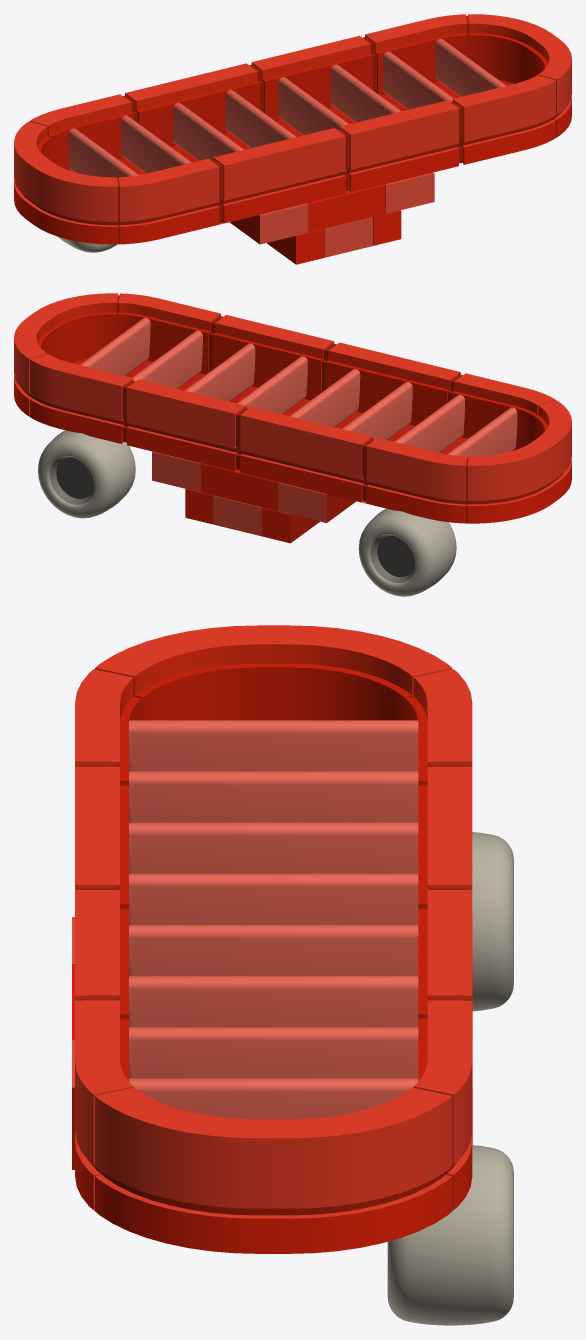
The model's file is RedSlotTray.fbx.
3 renders of one model, top to bottom at view 1: azimuth 30°, elevation 25°; view 2: azimuth 150°, elevation 25°; view 3: azimuth 270°, elevation 25°, orthographic. The views are drawn at different scales.
Visible parts, largest first — view 1: RedSlotTray, Wheels; view 2: RedSlotTray, Wheels; view 3: RedSlotTray, Wheels.
Boxes of the visible parts, box(x1,y1,x2,y2) form: RedSlotTray: box(14, 14, 571, 264); Wheels: box(58, 237, 117, 252); RedSlotTray: box(14, 293, 571, 543); Wheels: box(38, 430, 456, 596); RedSlotTray: box(72, 625, 472, 1253); Wheels: box(387, 832, 513, 1325).
Bounding box in the file's own units: 1068 × 269 × 389.
1 material, 1 textured.
